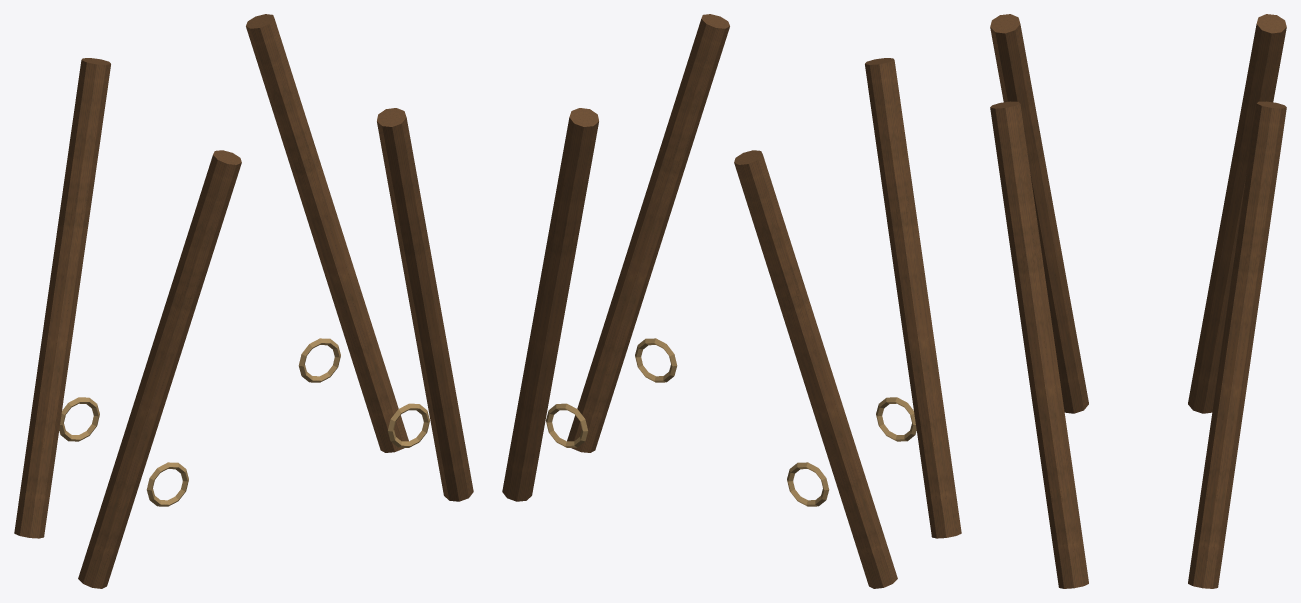
File: cs-011_signal_beacon_base.obj
The picture shows the model from 3 angles, left to right: view 1: azimuth 30°, elevation 25°; view 2: azimuth 150°, elevation 25°; view 3: azimuth 270°, elevation 25°; orthographic projection.
Parts seen in each view (by area): view 1: cs-011_signal_beacon_base; view 2: cs-011_signal_beacon_base; view 3: cs-011_signal_beacon_base.
Boxes of the visible parts, left/top/right/bottom form: cs-011_signal_beacon_base: left=14, top=14, right=473, bottom=588; cs-011_signal_beacon_base: left=502, top=14, right=961, bottom=588; cs-011_signal_beacon_base: left=990, top=14, right=1286, bottom=588.
Size of the model in its own units: 1.62 by 1.71 by 1.05.
2 materials, 2 textured.
